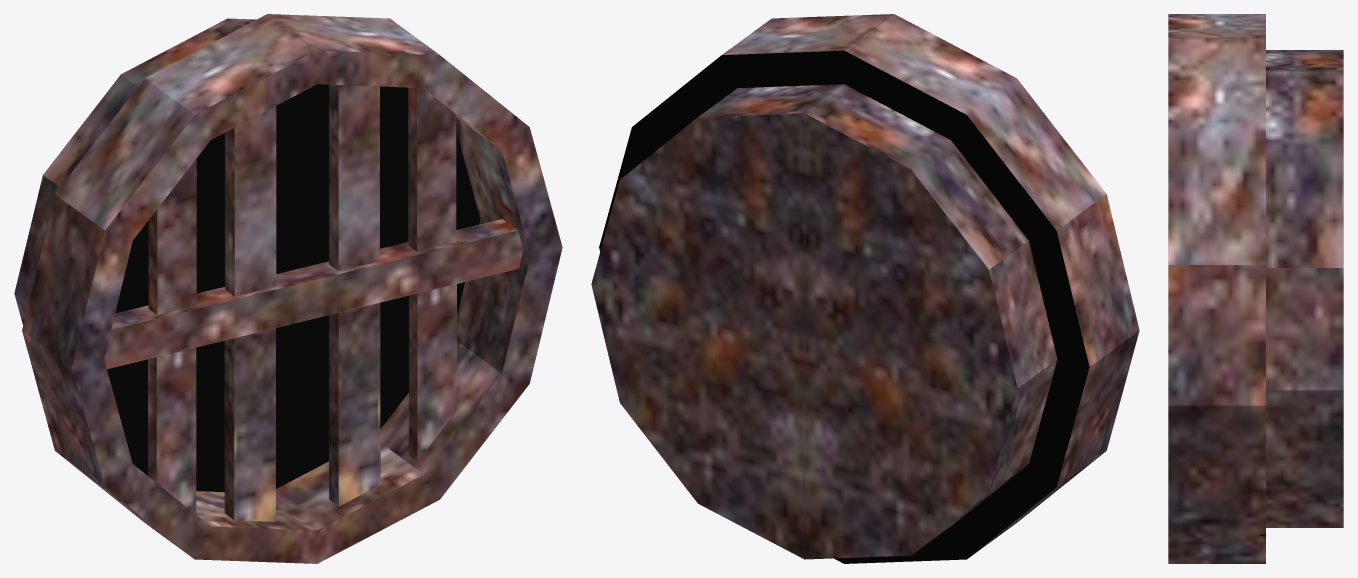
File: kerning_pipe.gltf
3 views of the same model, side by side, from view 1: azimuth 30°, elevation 25°; view 2: azimuth 150°, elevation 25°; view 3: azimuth 270°, elevation 25° (orthographic). The views are drawn at different scales.
Parts seen in each view (by area): view 1: Pipe; view 2: Pipe; view 3: Pipe.
Boxes of the visible parts, x1,y1,x2,y2 form: Pipe: [14, 14, 562, 563]; Pipe: [591, 14, 1139, 563]; Pipe: [1168, 14, 1343, 563].
Size of the model in its own units: 2 by 2 by 0.6346.
1 material, 1 textured.
